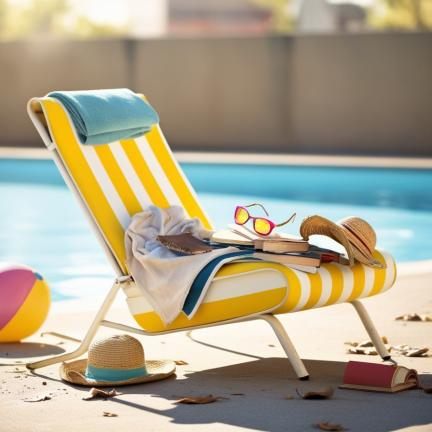occupied chair: (27, 89, 397, 380)
